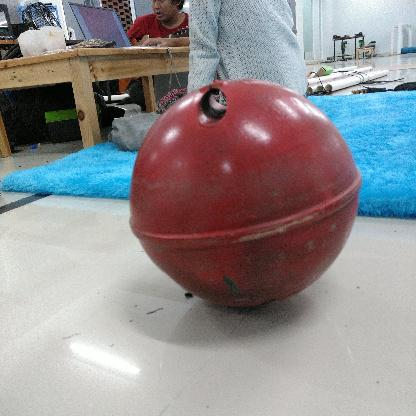red_buoy: (127, 72, 366, 324)
